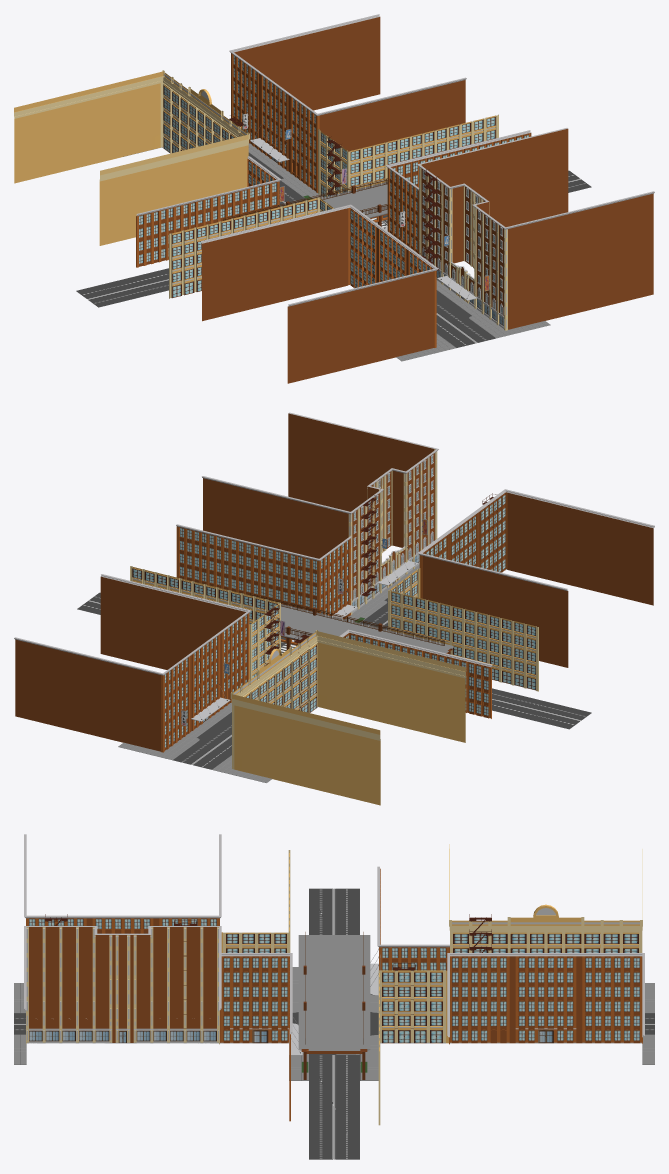
The model's file is TileCity4_5.fbx.
3 views of the same model, one above another, from view 1: azimuth 30°, elevation 25°; view 2: azimuth 150°, elevation 25°; view 3: azimuth 270°, elevation 25° (orthographic). The views are drawn at different scales.
Parts seen in each view (by area): view 1: Sidewalk1.079, Sidewalk1.099, Sidewalk1.068, Sidewalk1.078, Sidewalk1.140, Sidewalk1.067, Sidewalk1.098, Sidewalk1.077, Sidewalk1.096, Sidewalk1.141, Sidewalk1.097, Sidewalk1.139 (+32 smaller); view 2: Sidewalk1.079, Sidewalk1.068, Sidewalk1.099, Sidewalk1.067, Sidewalk1.078, Sidewalk1.140, Sidewalk1.098, Sidewalk1.096, Sidewalk1.077, Sidewalk1.066, Sidewalk1.141, Sidewalk1.097 (+32 smaller); view 3: Plane.139, Road1.002, Sidewalk1.096, Sidewalk1.109, Sidewalk1.017, Sidewalk1.067, Sidewalk1.138, Sidewalk1.140, Sidewalk1.100, Sidewalk1.004, Sidewalk1.139, Sidewalk1.126 (+31 smaller).
Boxes of the visible parts, bbox=[...] form: Sidewalk1.079: bbox=[202, 208, 436, 318]; Sidewalk1.099: bbox=[14, 83, 248, 194]; Sidewalk1.068: bbox=[231, 17, 465, 128]; Sidewalk1.078: bbox=[202, 220, 436, 331]; Sidewalk1.140: bbox=[419, 141, 653, 253]; Sidewalk1.067: bbox=[231, 30, 465, 141]; Sidewalk1.098: bbox=[14, 95, 247, 207]; Sidewalk1.077: bbox=[202, 233, 436, 344]; Sidewalk1.096: bbox=[14, 70, 249, 181]; Sidewalk1.141: bbox=[419, 129, 653, 240]; Sidewalk1.097: bbox=[14, 108, 247, 219]; Sidewalk1.139: bbox=[419, 154, 653, 266]; Sidewalk1.079: bbox=[419, 492, 653, 603]; Sidewalk1.068: bbox=[15, 576, 249, 688]; Sidewalk1.099: bbox=[232, 642, 465, 753]; Sidewalk1.067: bbox=[15, 589, 249, 701]; Sidewalk1.078: bbox=[420, 505, 653, 616]; Sidewalk1.140: bbox=[203, 426, 437, 536]; Sidewalk1.098: bbox=[232, 655, 465, 766]; Sidewalk1.096: bbox=[230, 630, 465, 740]; Sidewalk1.077: bbox=[420, 517, 653, 629]; Sidewalk1.066: bbox=[15, 602, 249, 713]; Sidewalk1.141: bbox=[203, 413, 437, 524]; Sidewalk1.097: bbox=[232, 668, 465, 779]; Plane.139: bbox=[298, 935, 370, 1051]; Road1.002: bbox=[309, 888, 359, 1159]; Sidewalk1.096: bbox=[449, 844, 642, 932]; Sidewalk1.109: bbox=[26, 999, 219, 1021]; Sidewalk1.017: bbox=[450, 999, 642, 1014]; Sidewalk1.067: bbox=[450, 970, 642, 985]; Sidewalk1.138: bbox=[26, 970, 218, 992]; Sidewalk1.140: bbox=[26, 941, 218, 963]; Sidewalk1.100: bbox=[26, 1028, 219, 1044]; Sidewalk1.004: bbox=[449, 1028, 642, 1044]; Sidewalk1.139: bbox=[26, 955, 218, 978]; Sidewalk1.126: bbox=[26, 985, 218, 1007].
Size of the model in its own units: 20000 by 4130 by 20000.
